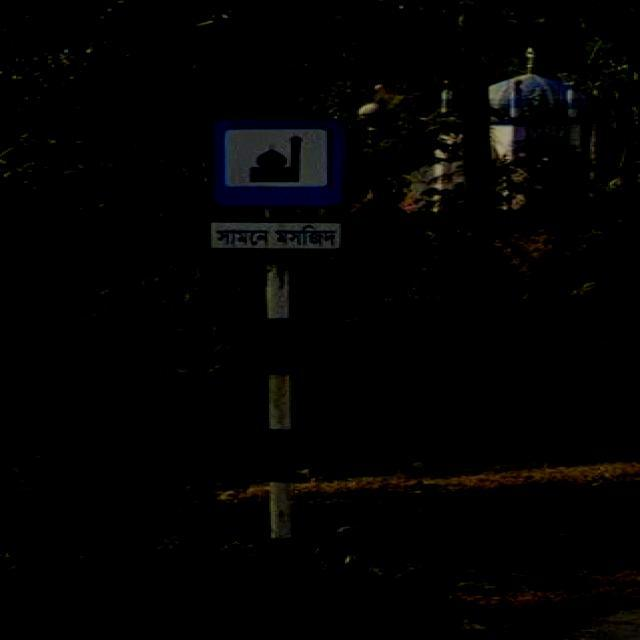Mosque in front: (203, 111, 351, 270)
